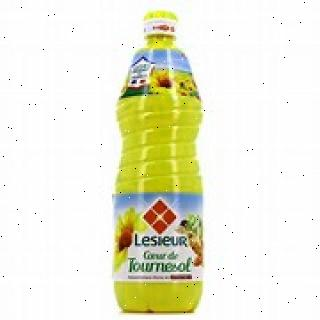Plastic-bottle: (112, 9, 209, 320)
